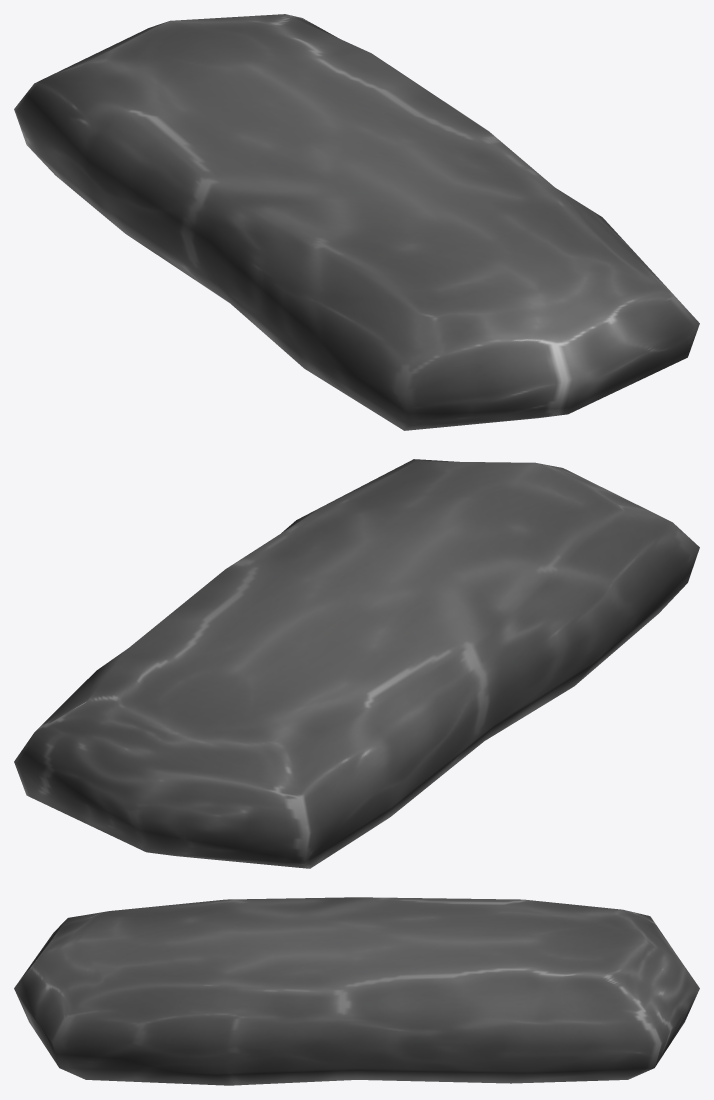
Rendered from rocarompible.fbx.
The picture shows the model from 3 angles, top to bottom: view 1: azimuth 30°, elevation 25°; view 2: azimuth 150°, elevation 25°; view 3: azimuth 270°, elevation 25°; orthographic projection. The views are drawn at different scales.
Visible parts, largest first — view 1: rocarompible; view 2: rocarompible; view 3: rocarompible.
Boxes of the visible parts, bbox=[...] form: rocarompible: bbox=[14, 14, 699, 430]; rocarompible: bbox=[14, 459, 699, 868]; rocarompible: bbox=[14, 897, 699, 1085].
Size of the model in its own units: 7.06 by 3.08 by 17.32.
Materials: 1 (1 with a texture image).
